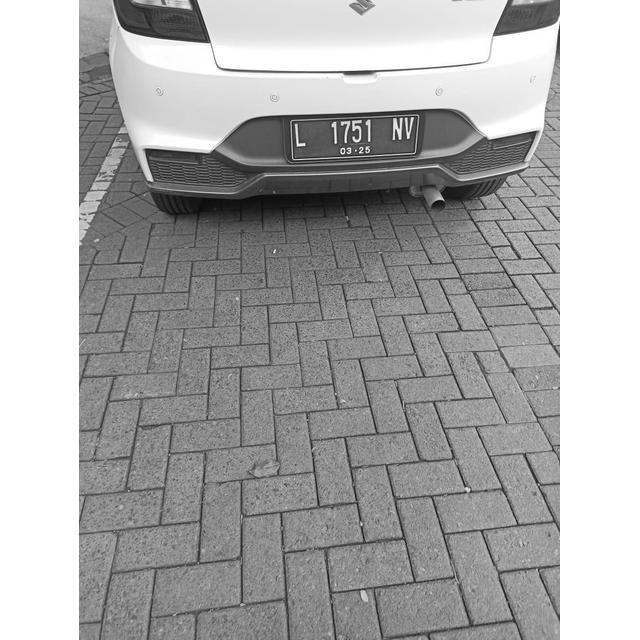license: (292, 114, 416, 156)
